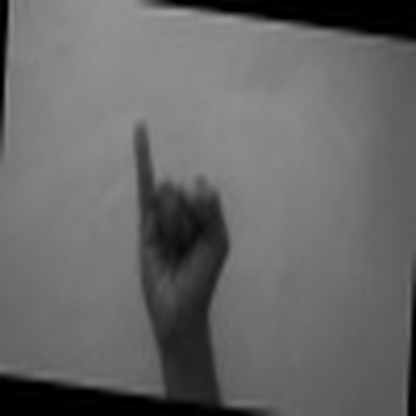i: (126, 108, 239, 333)
